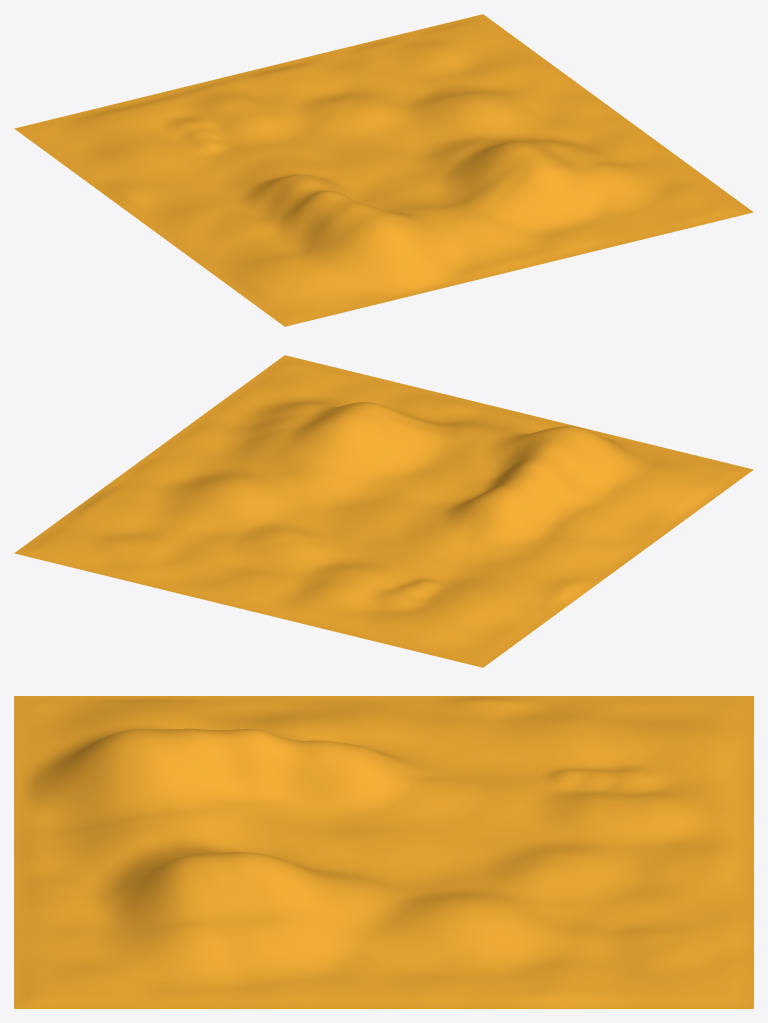
The model's file is SM_Sand.fbx.
3 renders of one model, top to bottom at view 1: azimuth 30°, elevation 25°; view 2: azimuth 150°, elevation 25°; view 3: azimuth 270°, elevation 25°, orthographic. The views are drawn at different scales.
Visible parts, largest first — view 1: pPlane9; view 2: pPlane9; view 3: pPlane9.
Boxes of the visible parts, x1=… form: pPlane9: x1=14, y1=14, x2=753, y2=326; pPlane9: x1=14, y1=355, x2=753, y2=667; pPlane9: x1=14, y1=696, x2=753, y2=1008.
Bounding box in the file's own units: 17800 × 1420 × 17800.
1 material, 1 textured.
